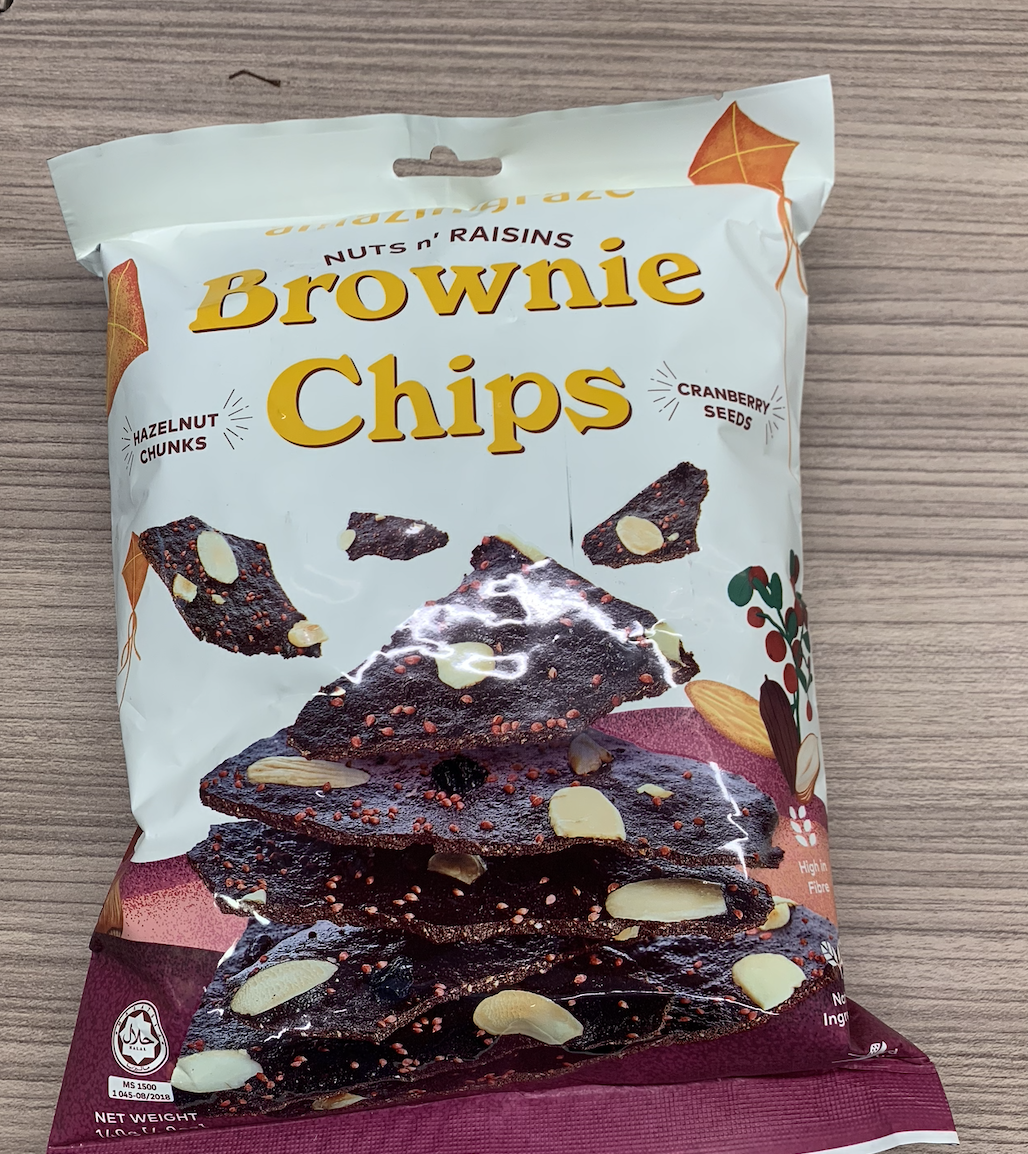crackers_100g-199g: (96, 232, 809, 1109)
